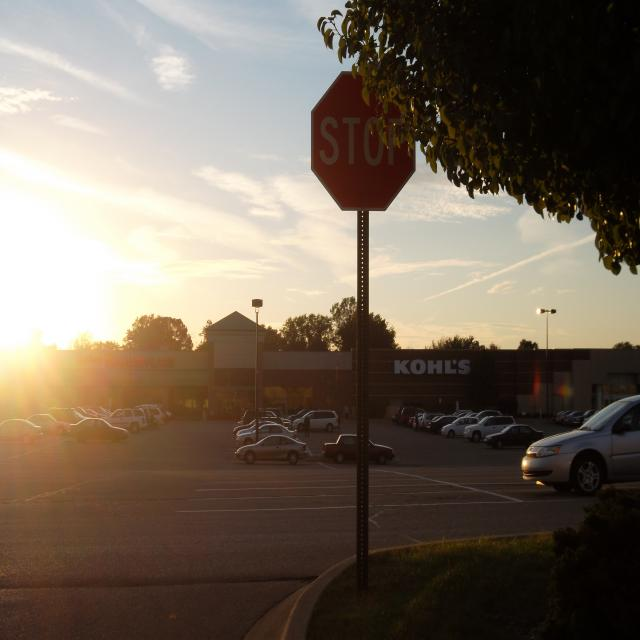stop: (308, 69, 421, 217)
